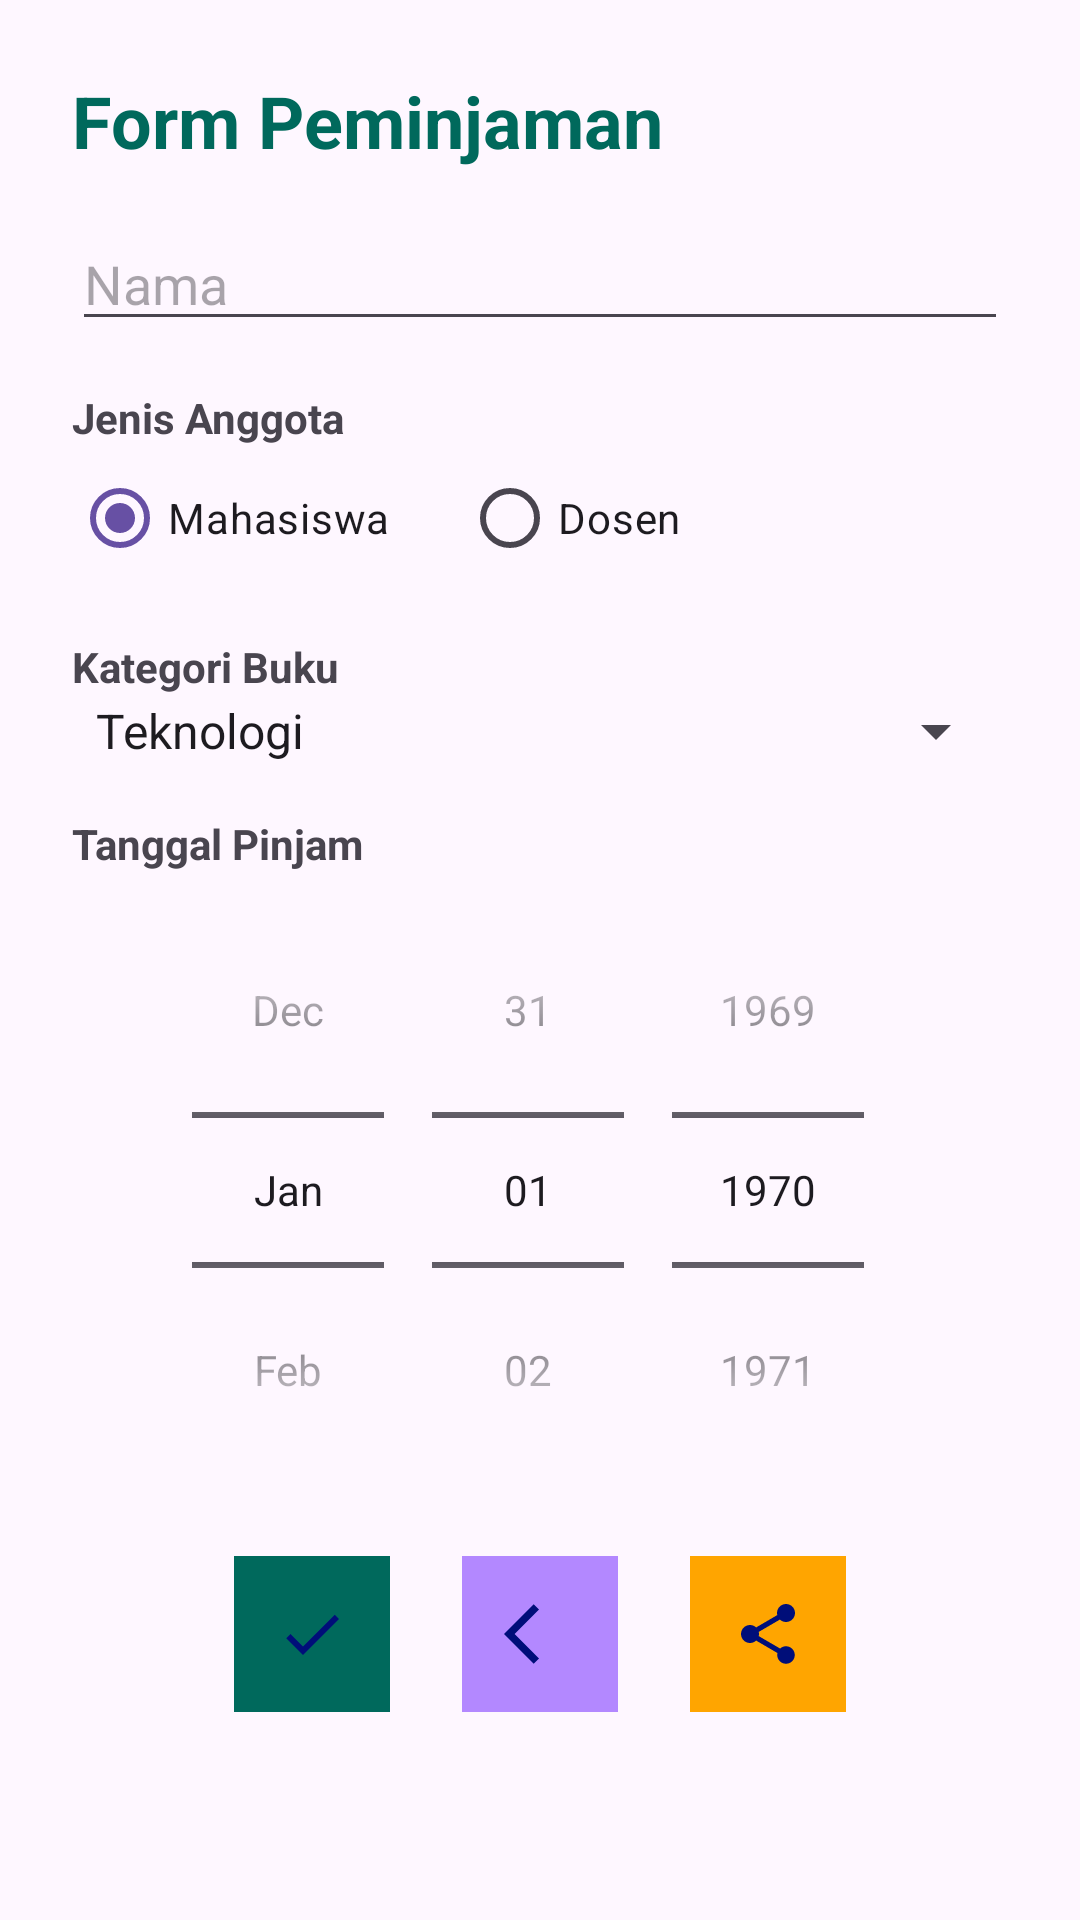

Icon bounding boxes for this 1080 × 1920 phone screenshot, format box(x1, y1, x2, y2):
back: box(462, 1556, 618, 1712)
share: box(690, 1556, 846, 1712)
Simpan: box(234, 1556, 390, 1712)
